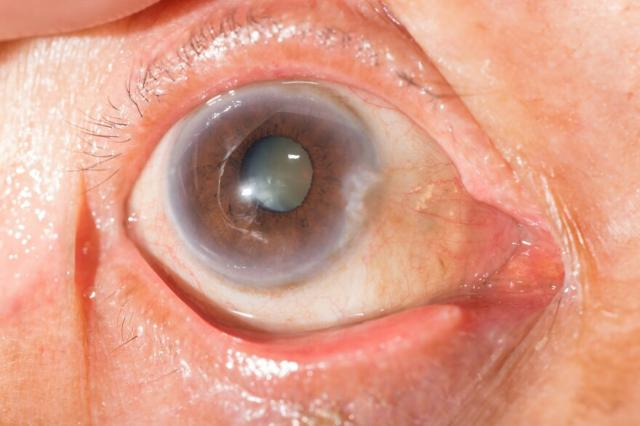eye: (167, 73, 386, 293)
